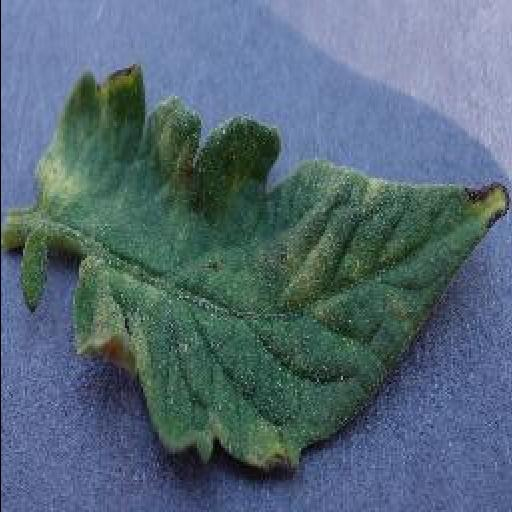disease_tomato: (34, 68, 510, 476)
